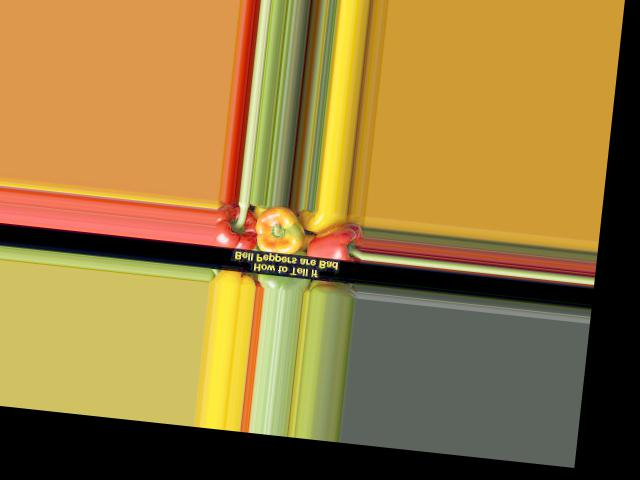bell_pepper: (214, 200, 263, 253)
